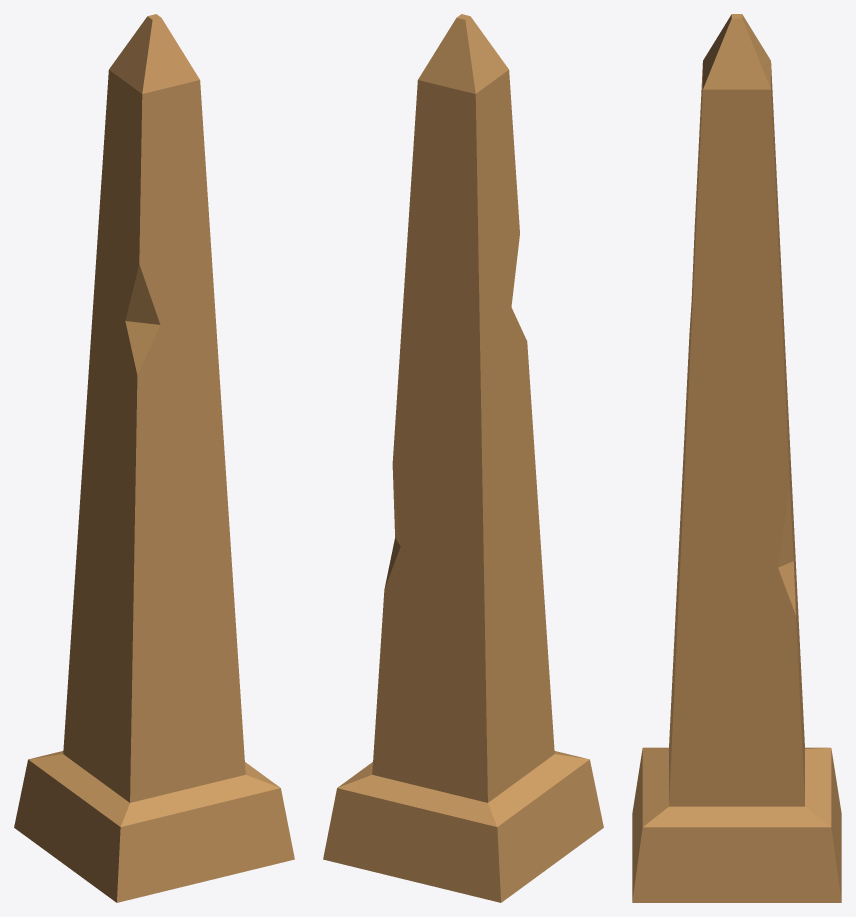
Rendered from egypt-obelisk-old.glb.
The picture shows the model from 3 angles, left to right: view 1: azimuth 30°, elevation 25°; view 2: azimuth 150°, elevation 25°; view 3: azimuth 270°, elevation 25°; orthographic projection.
Visible parts, largest first — view 1: egypt-obelisk-old; view 2: egypt-obelisk-old; view 3: egypt-obelisk-old.
Part boxes in pixels (<box>): egypt-obelisk-old: <box>14,14,294,902</box>; egypt-obelisk-old: <box>323,14,603,902</box>; egypt-obelisk-old: <box>632,14,841,902</box>.
Size of the model in its own units: 4 by 17.74 by 4.
1 material, 1 textured.
